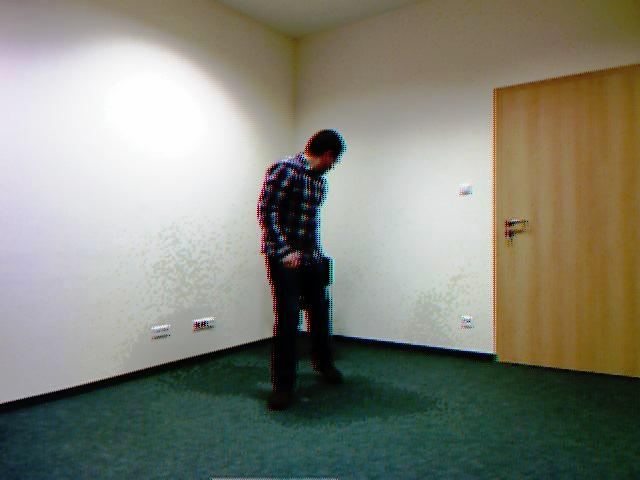walking: (256, 107, 350, 419)
